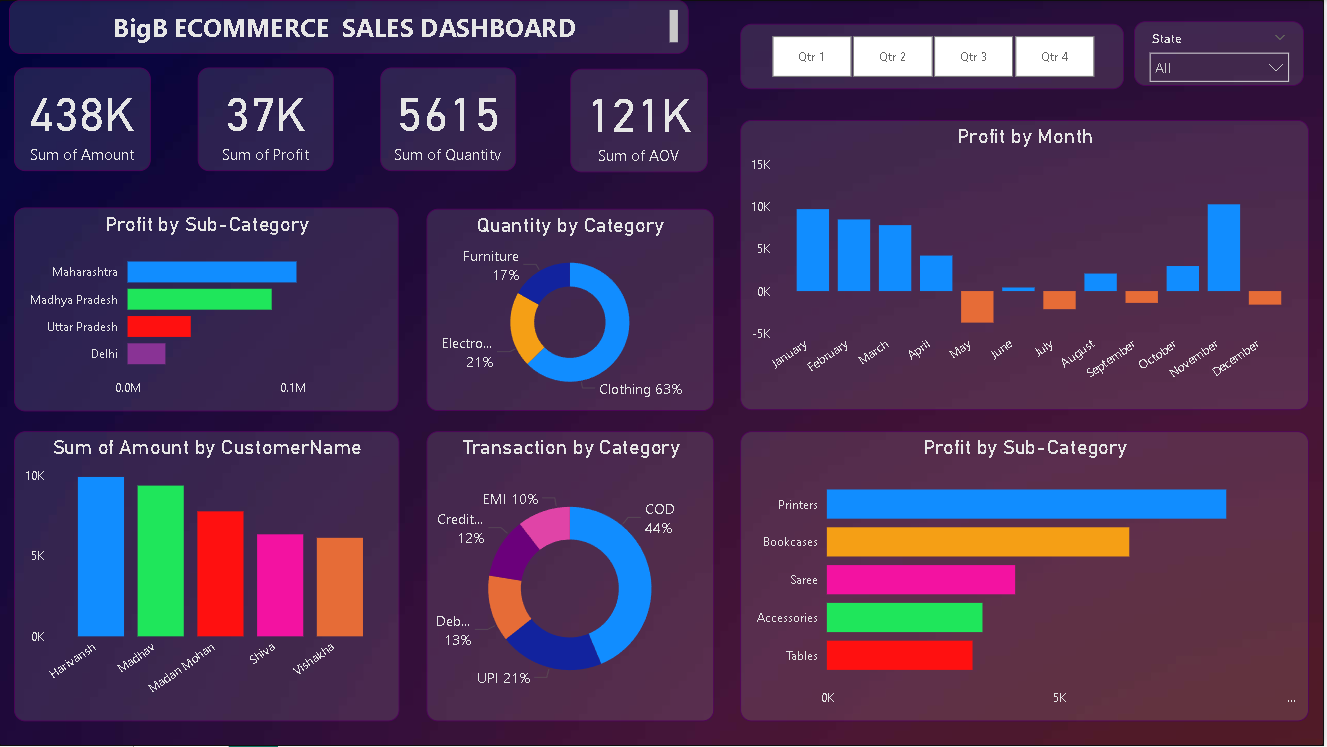

The dashboard page shown, as its layout file describes it:
{"tool":"powerbi","page":{"name":"Page 1","canvas":[1280,720],"ordinal":0},"visuals":[{"type":"textbox","box":[9.6,0,655.9,52.1],"z":0},{"type":"columnChart","title":" Profit by Month","fields":{"Category":["Orders.Order Date.Variation.Date Hierarchy.Month"],"Y":["Sum(Details.Profit)"]},"box":[710.8,113.9,548.9,279.9],"z":1000},{"type":"barChart","title":"Profit by Sub-Category","fields":{"Category":["Details.Sub-Category"],"Y":["Sum(Details.Profit)"]},"box":[710.8,414.4,548.9,279.9],"z":2000},{"type":"donutChart","title":"Quantity by Category","fields":{"Category":["Details.Category"],"Y":["Sum(Details.Quantity)"]},"box":[411.4,199.1,267.8,195.4],"z":3000},{"type":"donutChart","title":"Payment Method by Category","fields":{"Y":["Sum(Details.Quantity)"],"Category":["Details.PaymentMode"]},"box":[411.7,481.6,267.6,212.7],"z":4000},{"type":"card","fields":{"Values":["Sum(Details.Amount)"]},"box":[9.6,63.1,131.7,100.2],"z":5000},{"type":"card","fields":{"Values":["Sum(Details.Profit)"]},"box":[178.4,63.1,131.7,100.2],"z":6000},{"type":"card","fields":{"Values":["Sum(Details.Quantity)"]},"box":[360.9,63.1,131.7,100.2],"z":7000},{"type":"card","fields":{"Values":["Sum(Details.AOV)"]},"box":[533.8,63.1,131.7,100.2],"z":8000},{"type":"barChart","title":"Profit by Sub-Category","fields":{"Category":["Orders.State"],"Y":["Sum(Details.Amount)"]},"box":[9.7,197.9,371.6,196.6],"z":9000},{"type":"columnChart","fields":{"Category":["Orders.CustomerName"],"Y":["Sum(Details.Amount)"]},"box":[9.6,414.4,371.9,279.9],"z":10000},{"type":"slicer","fields":{"Values":["Orders.Order Date.Variation.Date Hierarchy.Quarter"]},"box":[710.8,20.6,370.5,63.1],"z":10001},{"type":"slicer","fields":{"Values":["Orders.State"]},"box":[1095,20.6,185.2,63.1],"z":10002}]}

Visuals, with their boxes in screenshot pixels (x1, y1, x2, y2), scaled from the page's 1280x720 canvas onto the 1327x747 screenshot:
textbox: region(10, 0, 690, 54)
" Profit by Month" columnChart: region(737, 118, 1306, 409)
"Profit by Sub-Category" barChart: region(737, 430, 1306, 720)
"Quantity by Category" donutChart: region(427, 207, 704, 409)
"Payment Method by Category" donutChart: region(427, 500, 704, 720)
card - Sum(Details.Amount): region(10, 65, 146, 169)
card - Sum(Details.Profit): region(185, 65, 321, 169)
card - Sum(Details.Quantity): region(374, 65, 511, 169)
card - Sum(Details.AOV): region(553, 65, 690, 169)
"Profit by Sub-Category" barChart: region(10, 205, 395, 409)
columnChart - Orders.CustomerName x Sum(Details.Amount): region(10, 430, 396, 720)
slicer - Orders.Order Date.Variation.Date Hierarchy.Quarter: region(737, 21, 1121, 87)
slicer - Orders.State: region(1135, 21, 1326, 87)
